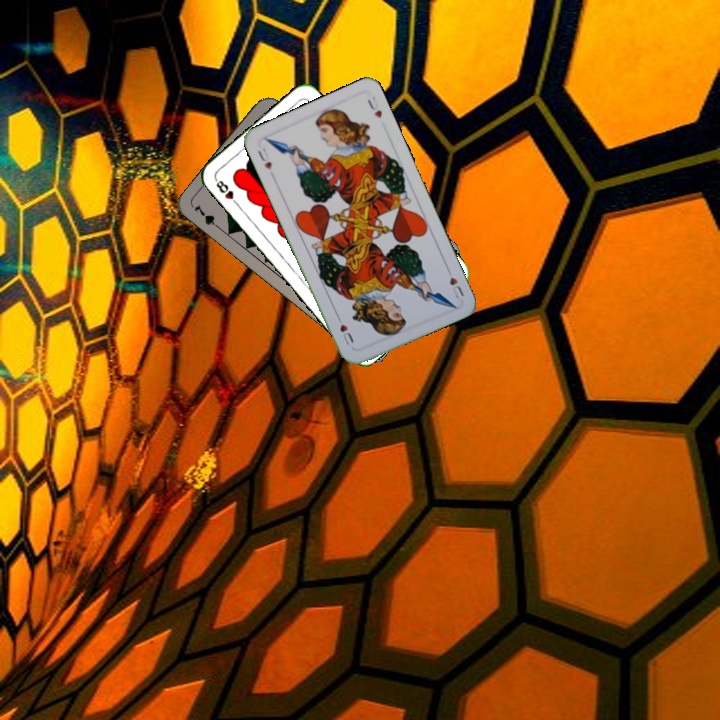G7: (189, 200, 224, 233)
H8: (211, 175, 242, 209)
HU: (442, 263, 466, 302), (254, 144, 274, 173)
